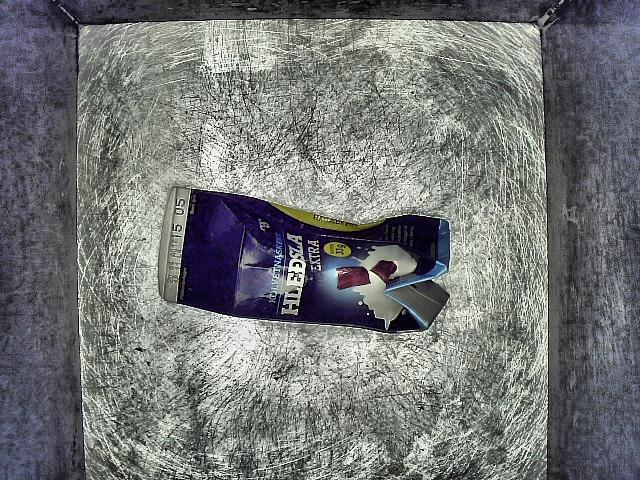Paper: (156, 179, 459, 347)
